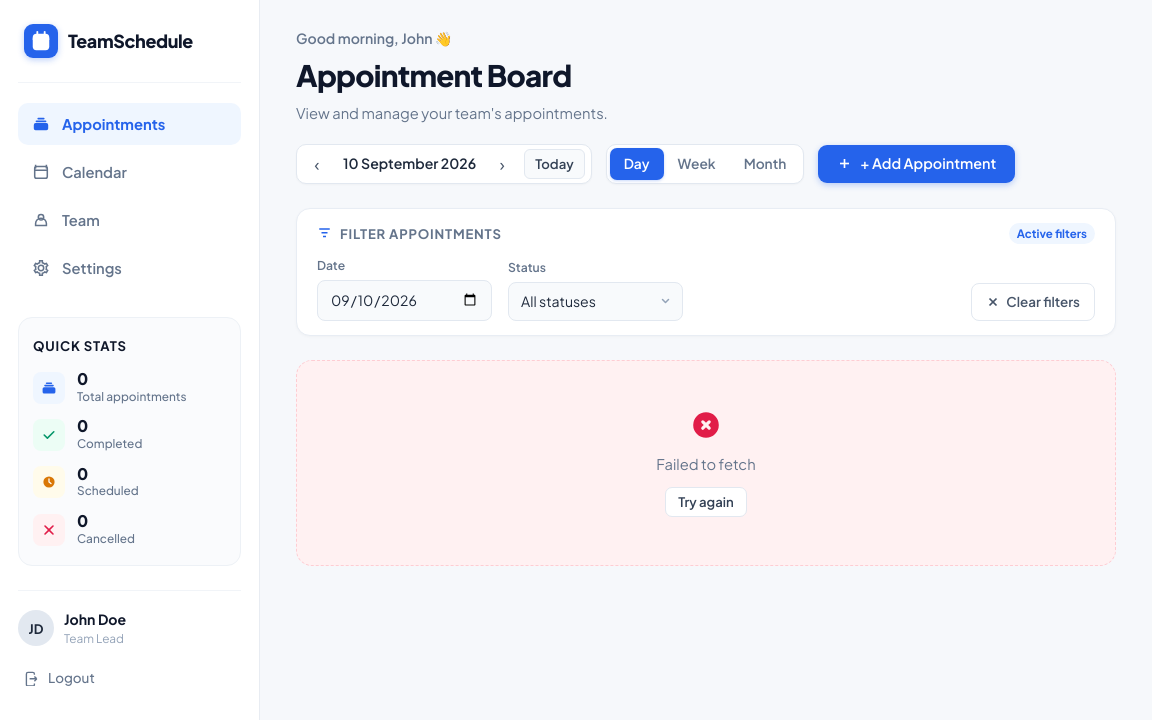
Test: AppointmentBoard › handles loading error state with retry option
The width and height of the screenshot is (1152, 720).
expect the text "Failed to fetch" is shown: met, box [656,453,756,475]
Click the button "Try again".
click(706, 502)  # box [665,487,747,517]
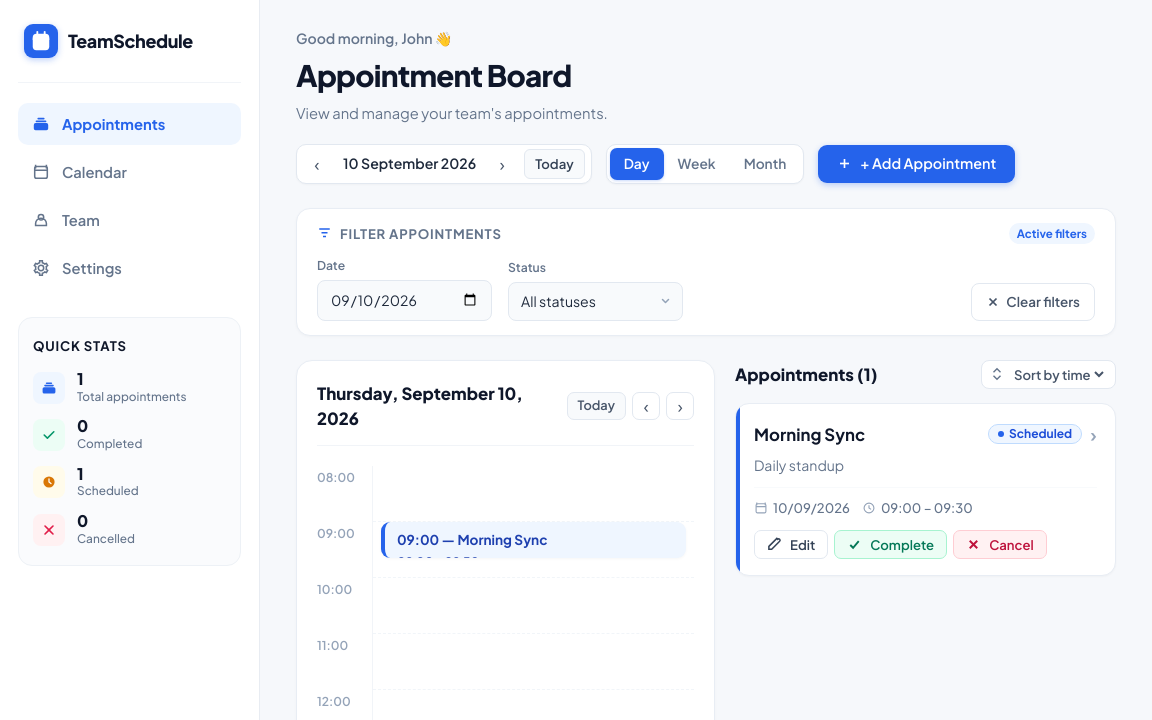
expect the heading "Morning Sync" is shown: met, box [754,422,865,447]
